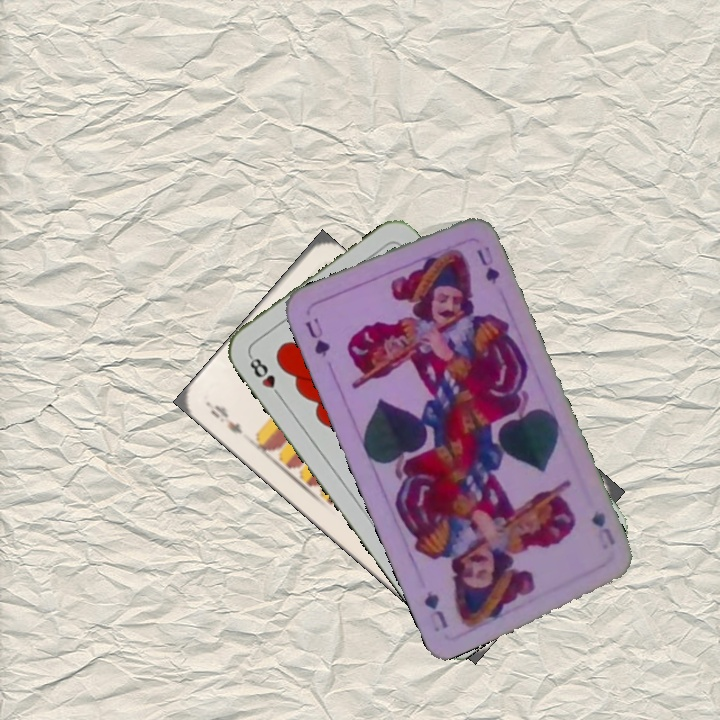E9: (204, 399, 245, 437)
GU: (301, 313, 333, 359), (587, 506, 618, 548)
H8: (245, 351, 285, 402)
